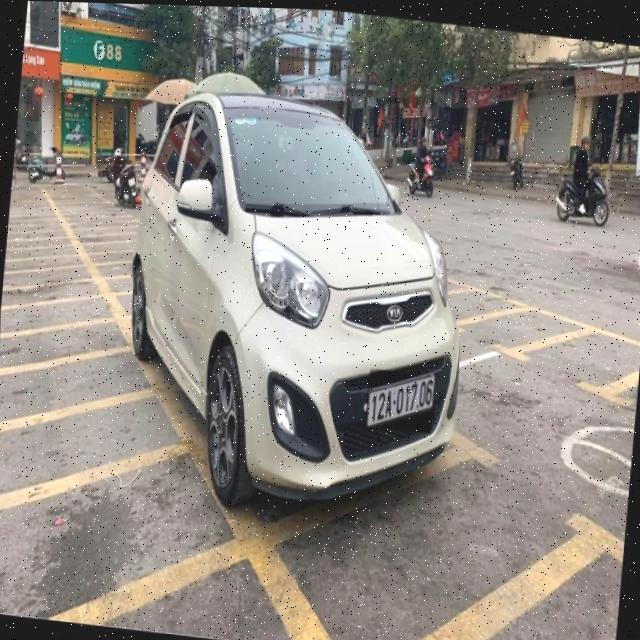car: (122, 75, 462, 522)
motorcycle: (550, 170, 615, 226), (400, 150, 440, 199)
plate: (362, 368, 438, 431)
